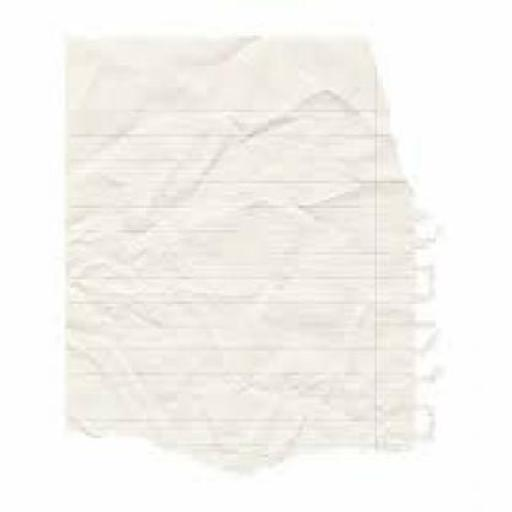paper: (65, 32, 436, 460)
